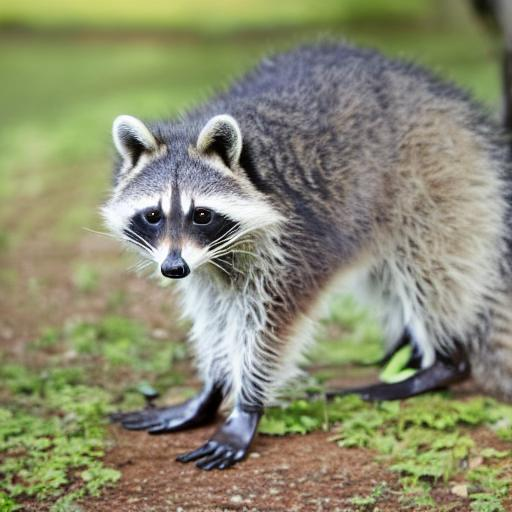raccoon: (92, 22, 512, 373)
